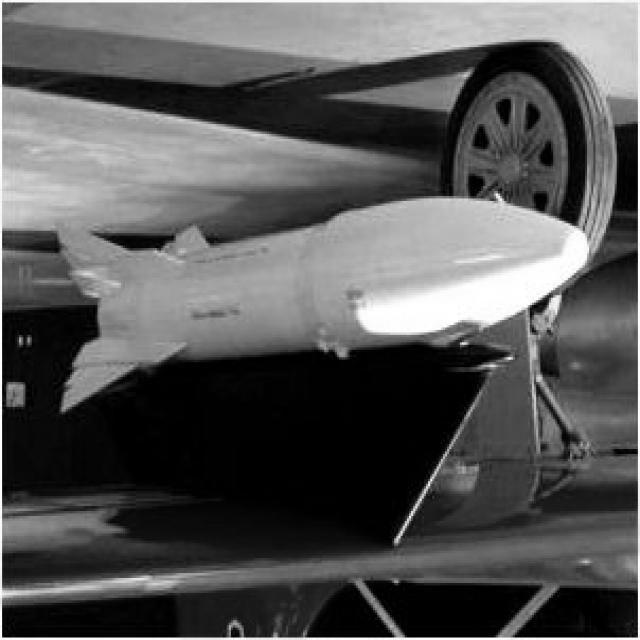missile: (54, 192, 592, 376)
